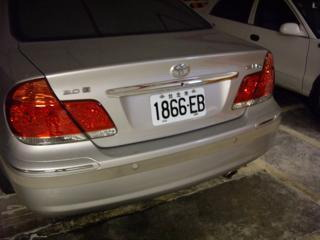plate: (148, 89, 207, 120)
